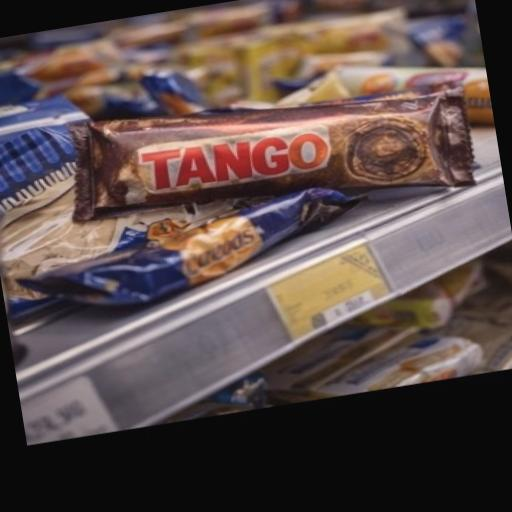tango: (10, 13, 504, 320)
